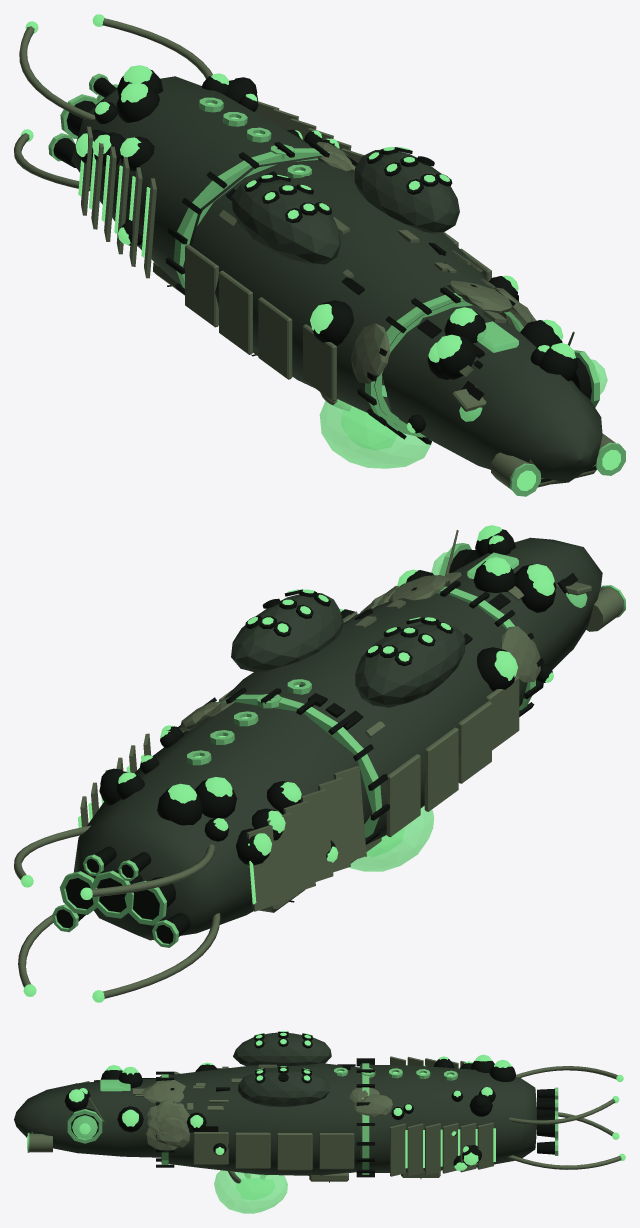
The model's file is zrost-szczepieni-hawk-83-lod0.glb.
3 views of the same model, one above another, from view 1: azimuth 30°, elevation 25°; view 2: azimuth 150°, elevation 25°; view 3: azimuth 270°, elevation 25° (orthographic). The views are drawn at different scales.
Size of the model in its own units: 18.44 by 21.58 by 76.
